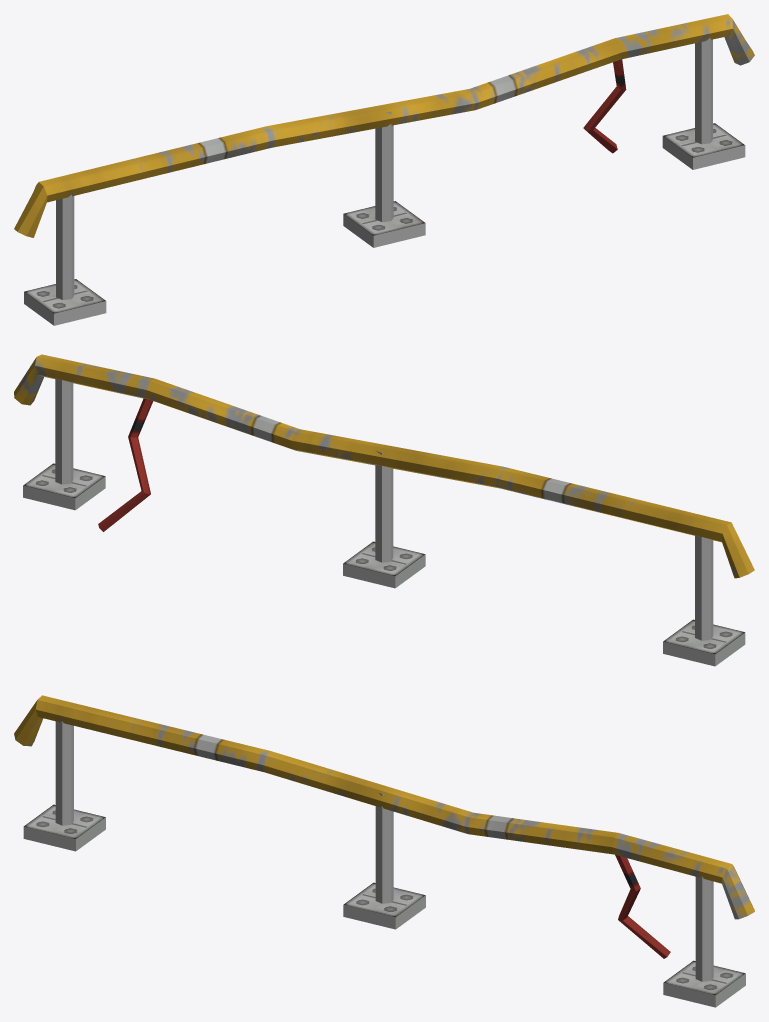
Rendered from part_handrail.fbx.
The picture shows the model from 3 angles, top to bottom: view 1: azimuth 30°, elevation 25°; view 2: azimuth 150°, elevation 25°; view 3: azimuth 330°, elevation 25°; orthographic projection.
Parts seen in each view (by area): view 1: part_handrail; view 2: part_handrail; view 3: part_handrail.
Part boxes in pixels (<box>): part_handrail: <box>14,14,754,325</box>; part_handrail: <box>14,354,754,666</box>; part_handrail: <box>14,695,754,1007</box>.
Size of the model in its own units: 1.27 by 0.2266 by 0.1323.
Materials: 1 (1 with a texture image).
